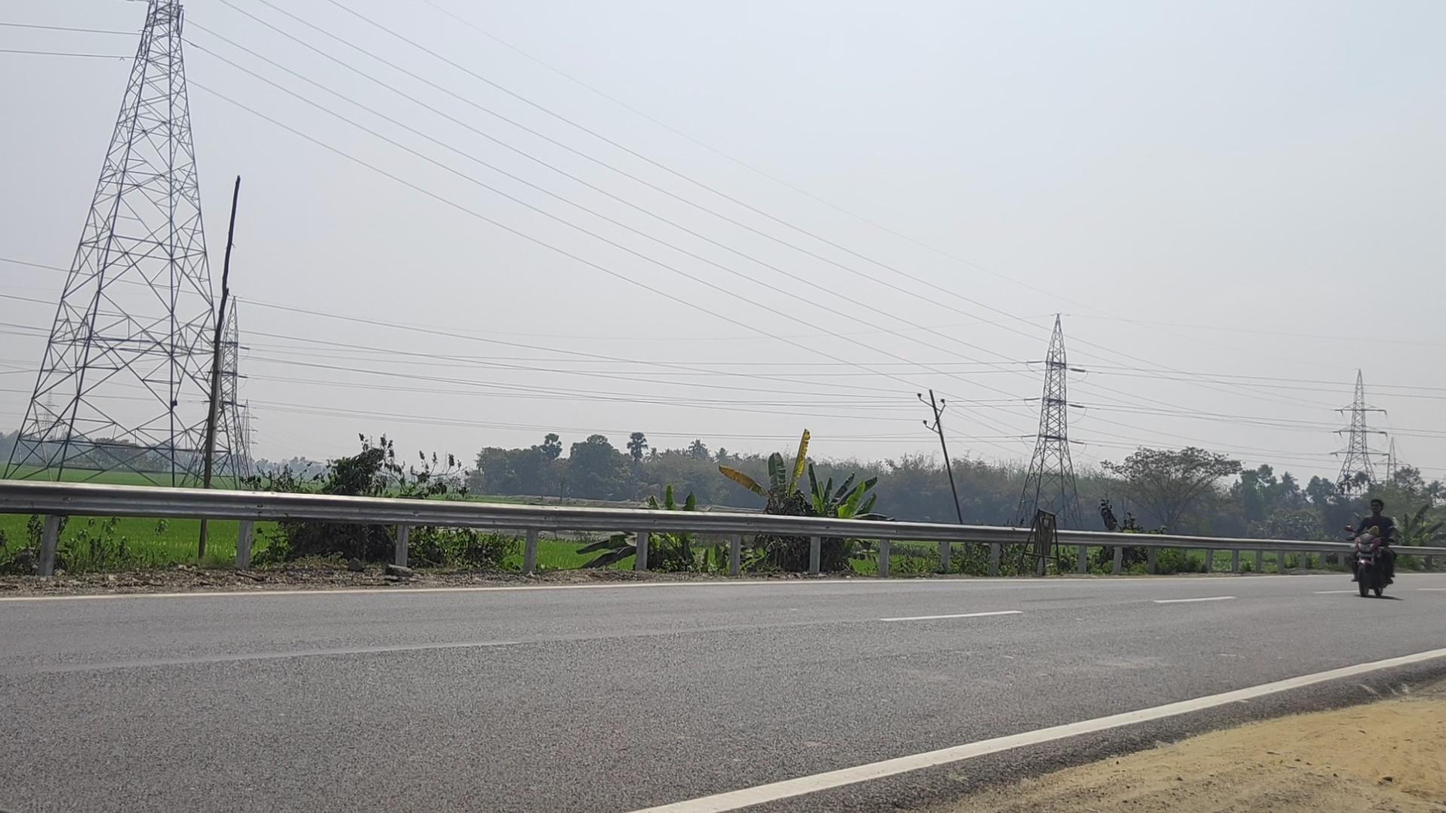bike: (1344, 498, 1399, 598)
